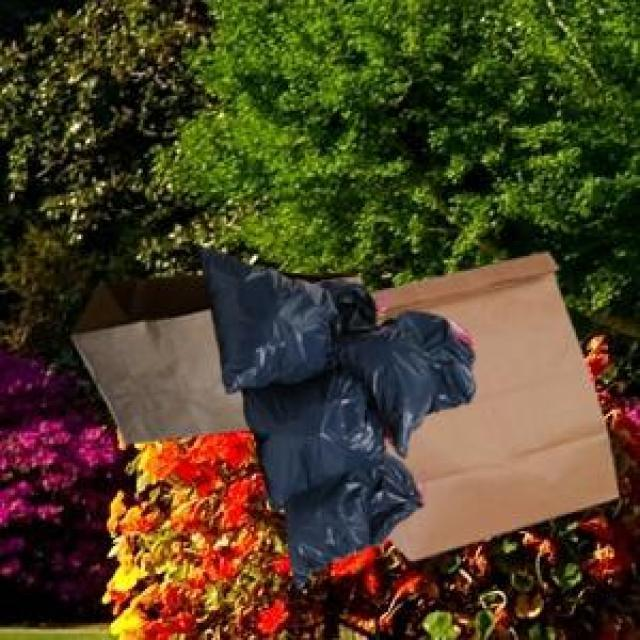miscellaneous trash: (195, 241, 472, 585)
paper: (367, 250, 614, 557), (68, 269, 356, 440)
